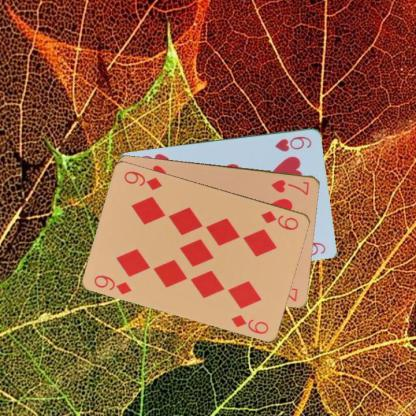6h: (272, 134, 313, 152)
7h: (269, 177, 310, 196)
9d: (92, 272, 133, 296), (258, 208, 300, 231)
